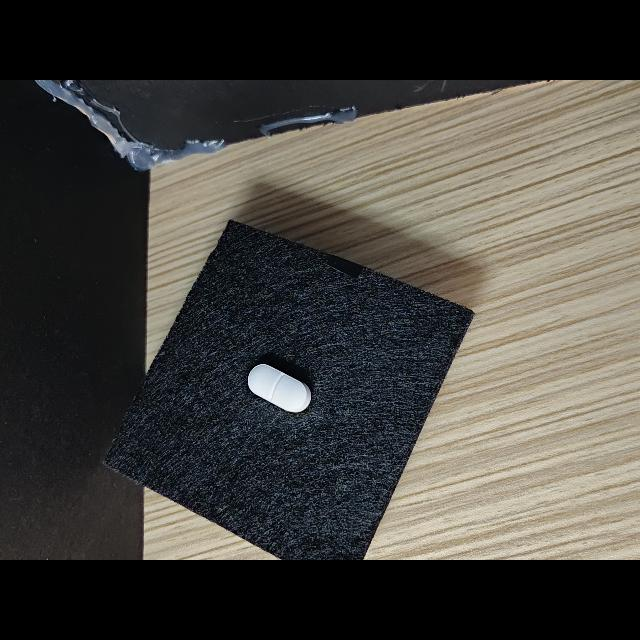Intact Pill: (248, 364, 311, 412)
